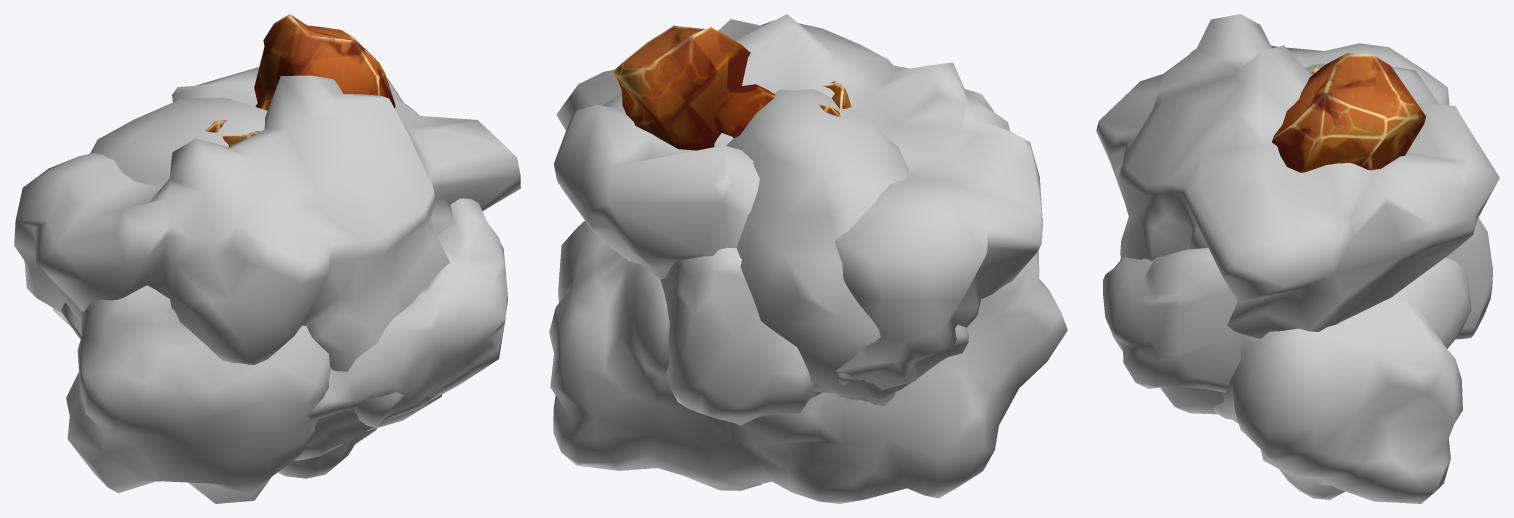
Rendered from Minerals.FBX.
The picture shows the model from 3 angles, left to right: view 1: azimuth 30°, elevation 25°; view 2: azimuth 150°, elevation 25°; view 3: azimuth 270°, elevation 25°; orthographic projection. The views are drawn at different scales.
Visible parts, largest first — view 1: 007, 002, 010, 014, 004; view 2: 007, 002, 014, 010, 004; view 3: 007, 002, 010, 004, 014.
Part boxes in pixels (box(x1,y1,x2,y2)): 007: box(14, 67, 520, 427); 002: box(66, 285, 377, 503); 010: box(61, 198, 507, 460); 014: box(90, 97, 442, 431); 004: box(205, 14, 395, 146); 007: box(554, 14, 1042, 393); 002: box(549, 221, 1067, 503); 014: box(726, 89, 909, 405); 010: box(660, 247, 968, 425); 004: box(613, 25, 851, 150); 007: box(1096, 14, 1499, 338); 002: box(1120, 257, 1471, 503); 010: box(1103, 217, 1492, 423); 004: box(1272, 53, 1425, 172); 014: box(1160, 64, 1438, 414).
Bounding box in the file's own units: 79.87 × 72.44 × 60.23.
